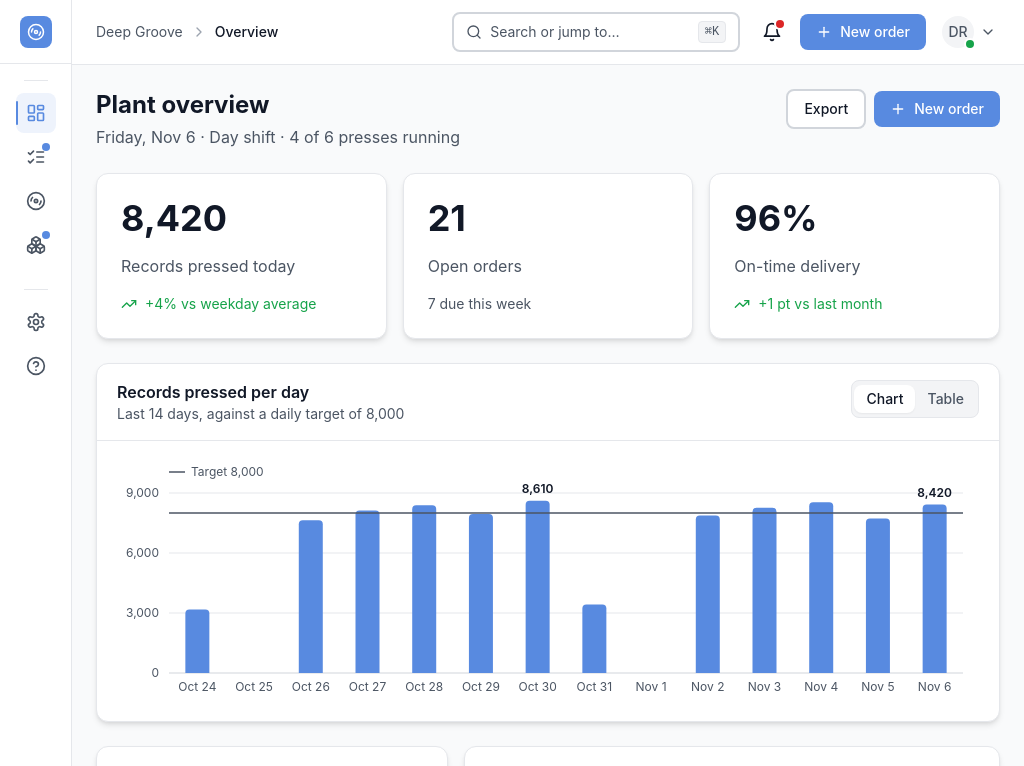
Scenario: AppShellExample (pressing plant) › jumps to a view from the command palette
The width and height of the screenshot is (1024, 766).
Click the button "Search or jump to… ⌘K" at (596, 32), box [452,12,740,52]
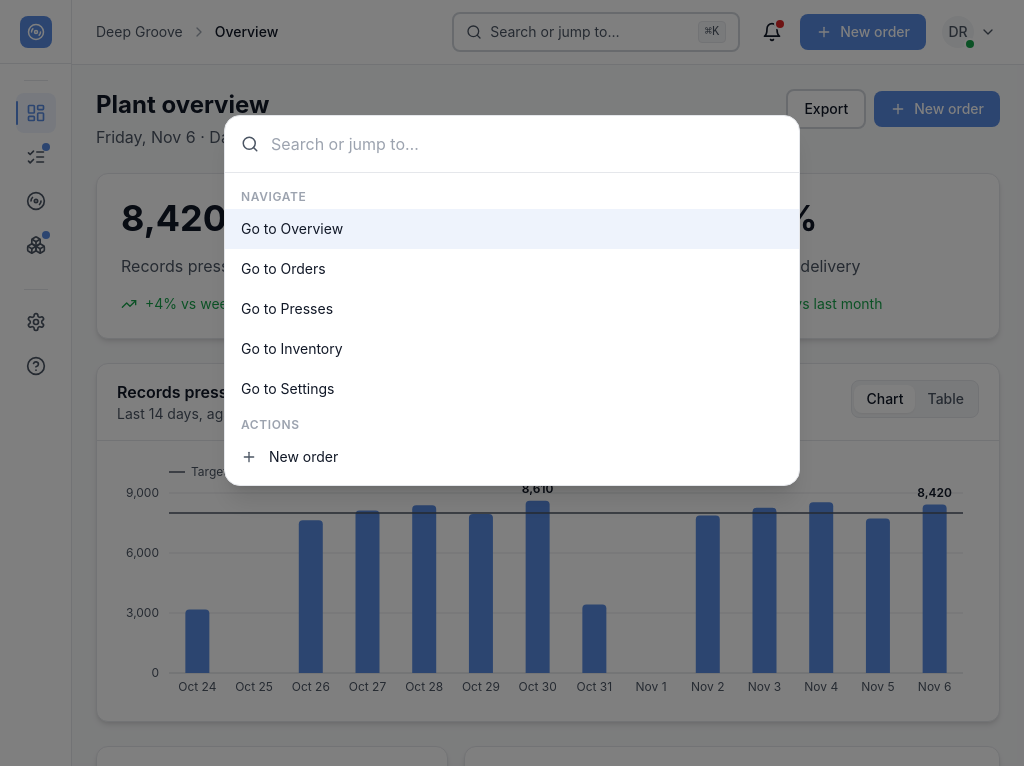
Click the option "Go to Presses" at (287, 309), box [225,289,799,329]
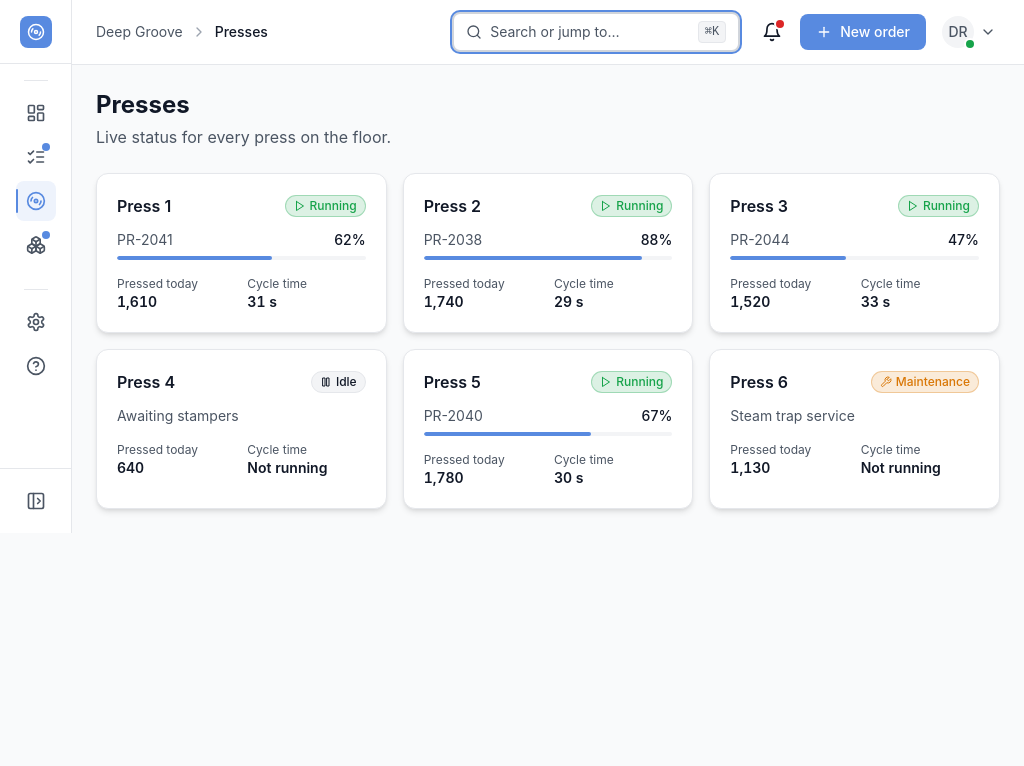
Now the heading "Presses" is shown, box [96,90,190,119]
